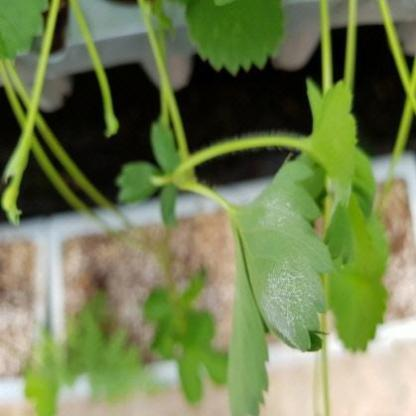Strawberry_Powdery_Mildew_Leaf: (228, 152, 336, 354)
